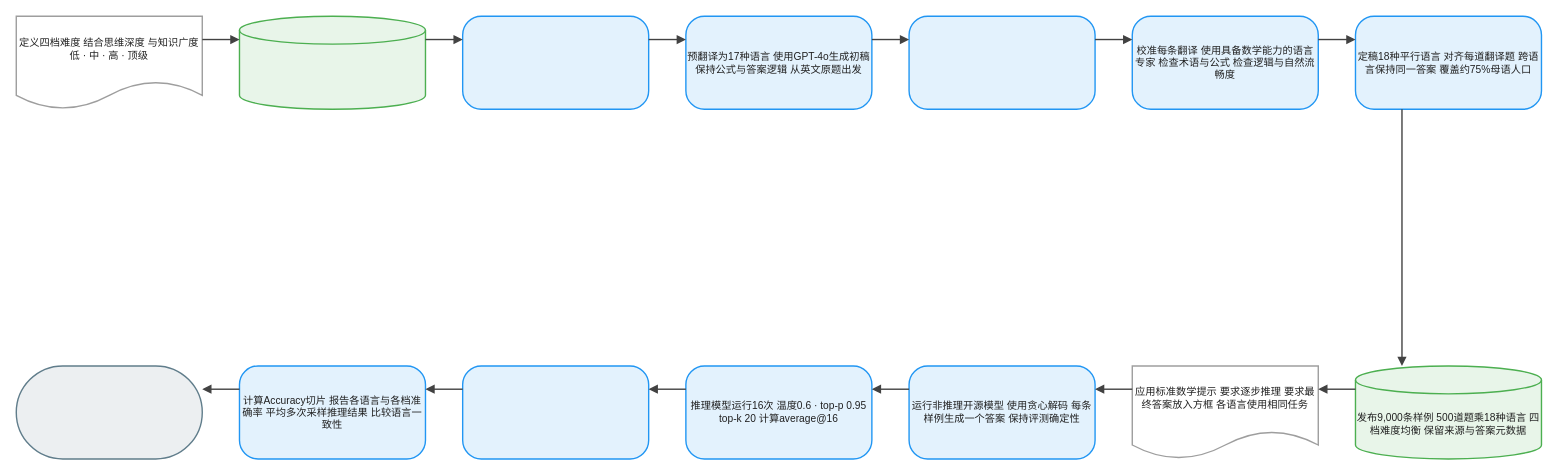
The diagram is 1559 pixels wide and 476 high, and some of its shapes have lost their labels. The centre of each missing label's shape, as x and y in pixels:
专家分配难度标签 数学专家确定每题档位 每个标签再由两位专家确认 核对思维与知识要求: (x=555, y=62)
共筛选500道英文题 每档选择125道 使用MGSM与官方考试 纳入竞赛题及25道HLE: (x=332, y=62)
报告难度加权准确率 四档权重为1 · 2 · 4 · 8 聚合全部难度 保留多语言诊断: (x=109, y=412)
提取数学术语 数学专家识别关键术语 建立题目专属术语表 锚定专业翻译: (x=1001, y=62)
规则匹配答案 提取方框内最终答案 规范化等价形式 解析器精度超过98%: (x=555, y=412)
